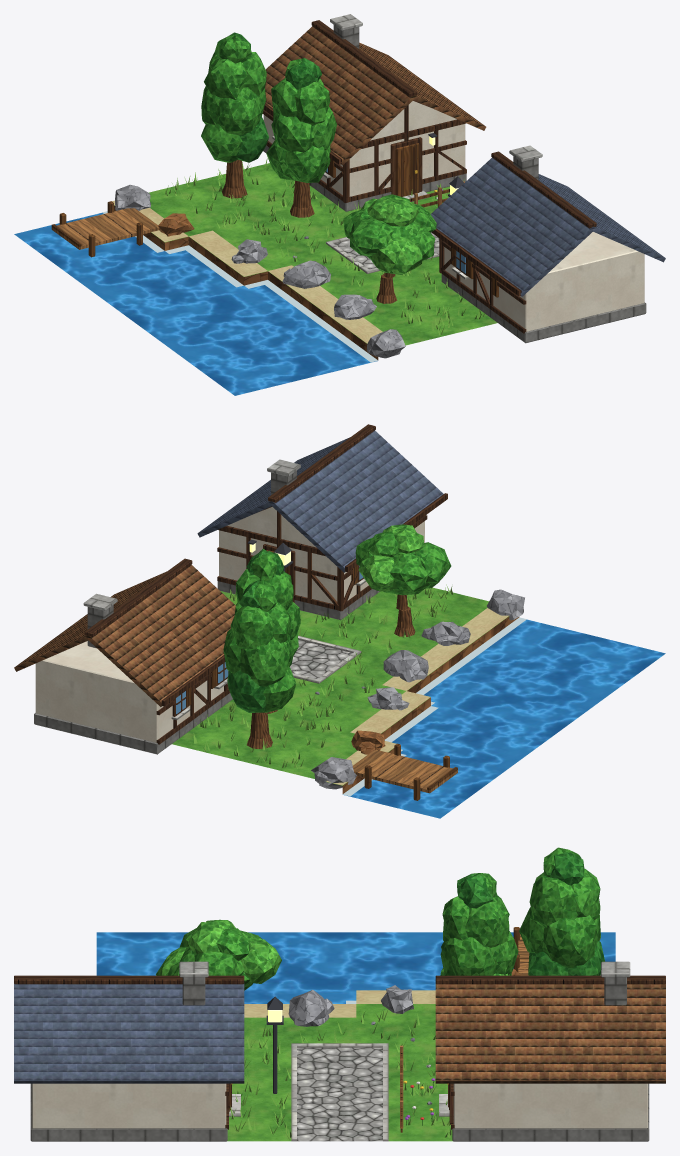
The model's file is chunk_0_2.glb.
The picture shows the model from 3 angles, top to bottom: view 1: azimuth 30°, elevation 25°; view 2: azimuth 150°, elevation 25°; view 3: azimuth 270°, elevation 25°; orthographic projection. The views are drawn at different scales.
Parts seen in each view (by area): view 1: chunk_0_2; view 2: chunk_0_2; view 3: chunk_0_2.
Part boxes in pixels (box(x1,y1,x2,y2)): chunk_0_2: box(14, 14, 665, 395); chunk_0_2: box(14, 424, 665, 818); chunk_0_2: box(14, 847, 665, 1141).
Bounding box in the file's own units: 16.55 × 6.76 × 20.1.
31 materials, 21 textured.
